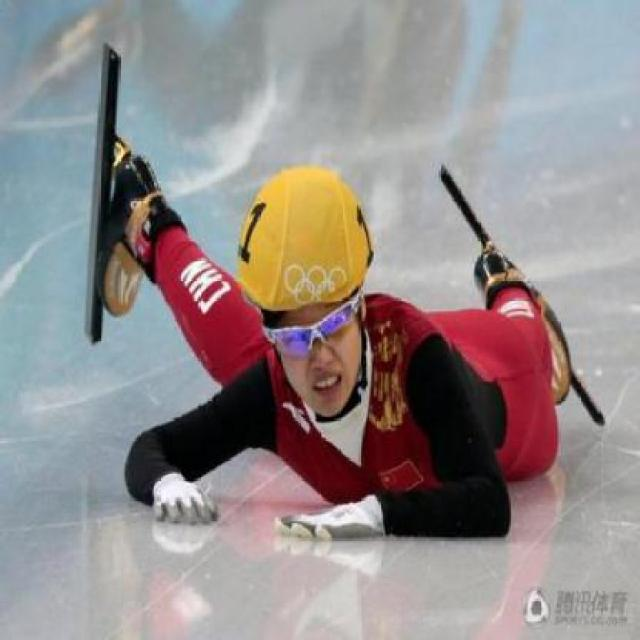fall: (70, 120, 582, 566)
